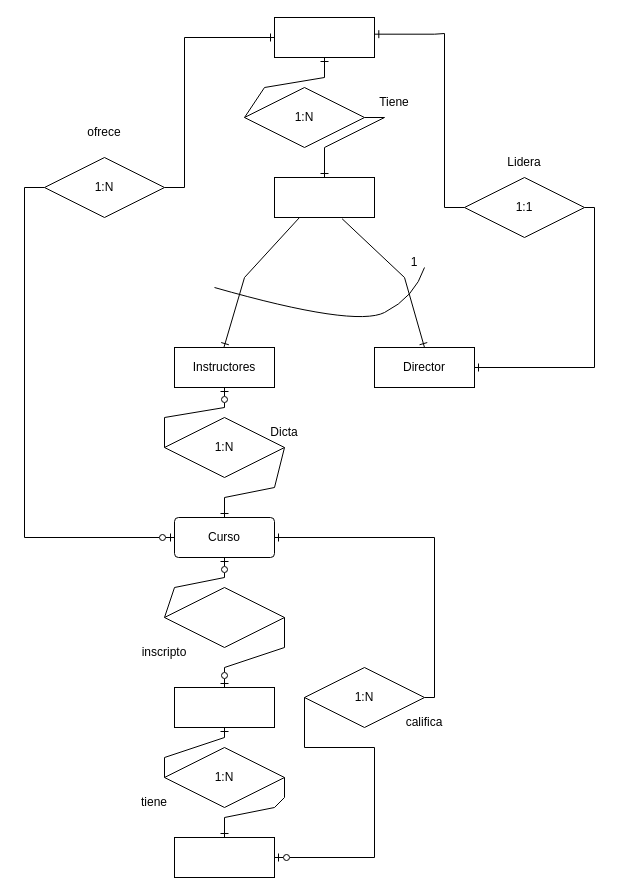
This 620x895 diagram has some shape labels left out. The box of each missing label's shape, as (x1, y1, x2, y2) in pixels:
Calificacion: (174, 836, 274, 878)
Departamento: (274, 16, 374, 58)
empleados: (274, 176, 374, 218)
estudiantes: (174, 686, 274, 728)
N:M: (164, 586, 284, 648)
